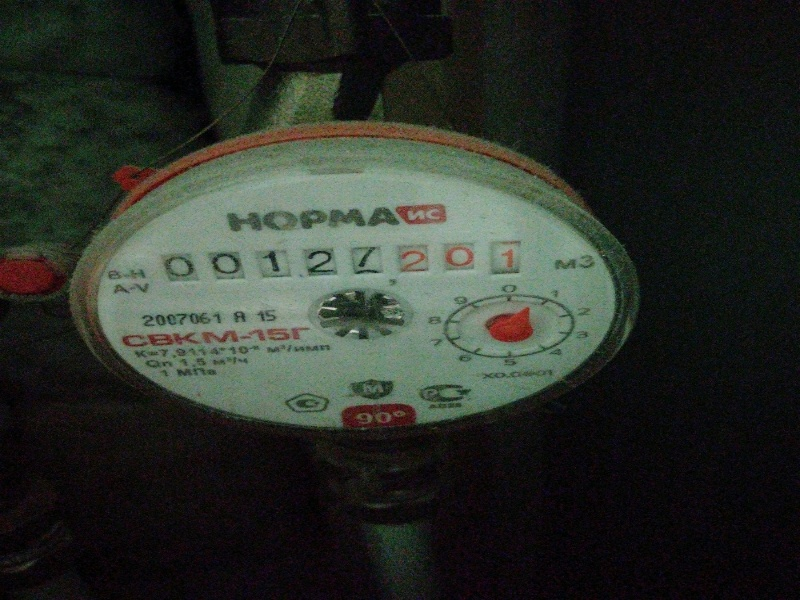dial: (154, 241, 527, 286)
